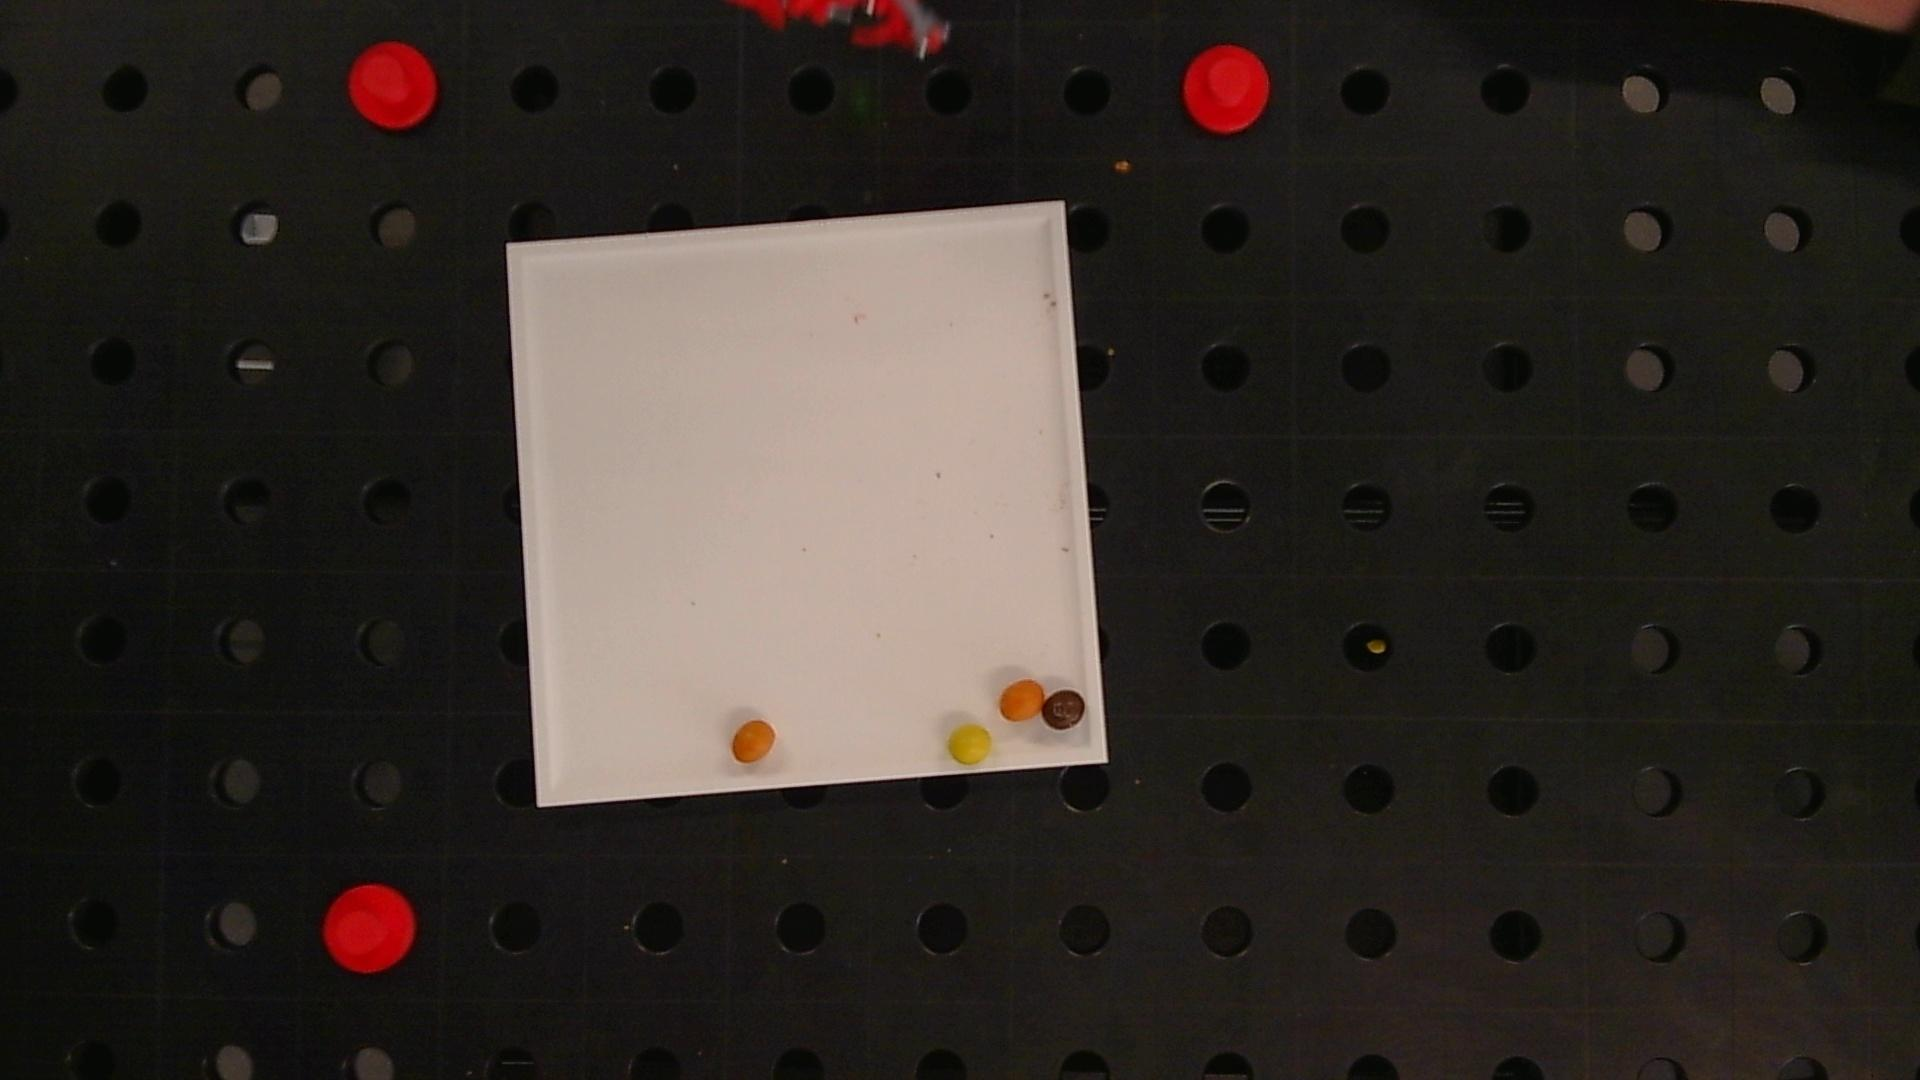brown: (1042, 688, 1087, 729)
orange: (732, 719, 775, 764), (998, 679, 1044, 721)
yellow: (948, 725, 992, 765)
